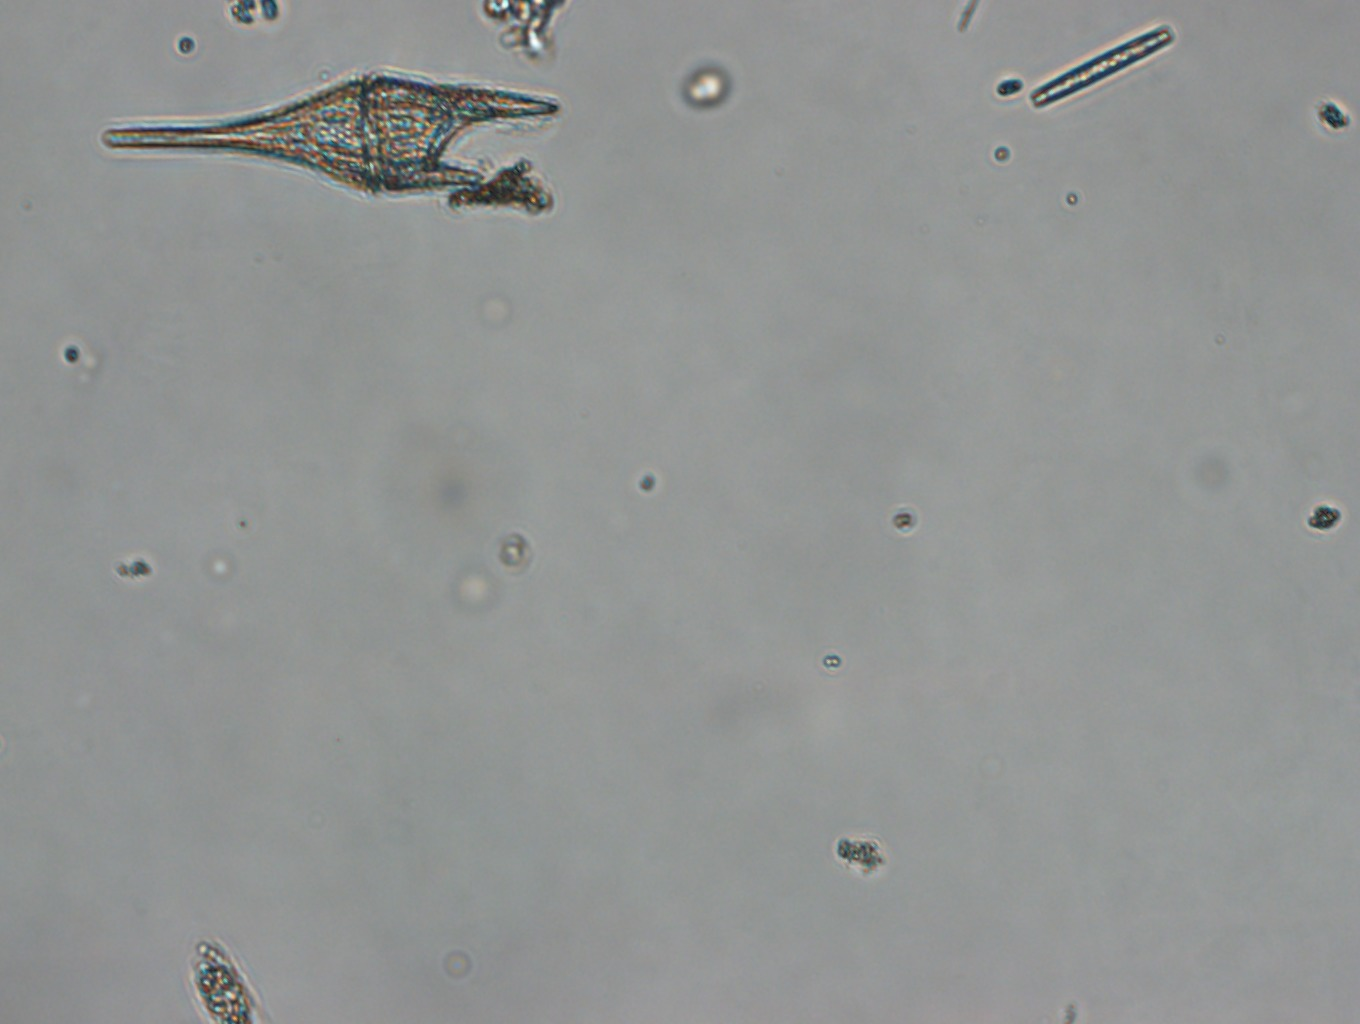ceratium furca: (100, 65, 575, 203)
